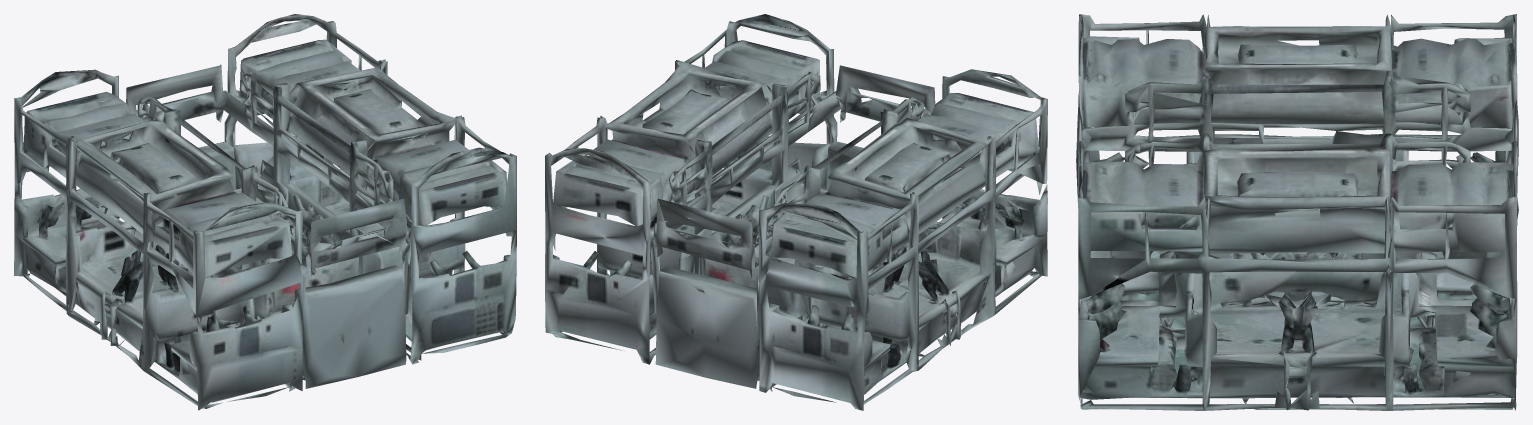
Rendered from frigate_marine_barracks.repacked.glb.
3 renders of one model, left to right at view 1: azimuth 30°, elevation 25°; view 2: azimuth 150°, elevation 25°; view 3: azimuth 270°, elevation 25°, orthographic. The views are drawn at different scales.
Parts seen in each view (by area): view 1: Mesh1.0; view 2: Mesh1.0; view 3: Mesh1.0.
Boxes of the visible parts, <box> form: Mesh1.0: <box>14,14,516,410</box>; Mesh1.0: <box>545,14,1047,410</box>; Mesh1.0: <box>1076,14,1518,410</box>.
Size of the model in its own units: 1.91 by 1.15 by 1.93.
1 material, 1 textured.
